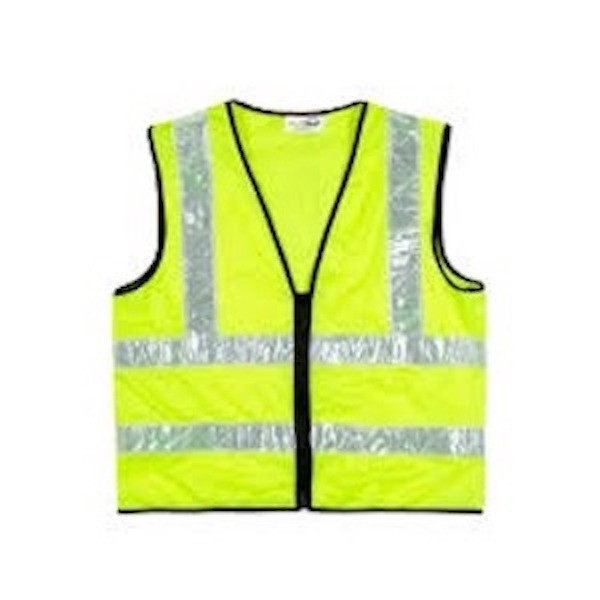vest: (115, 98, 484, 515)
